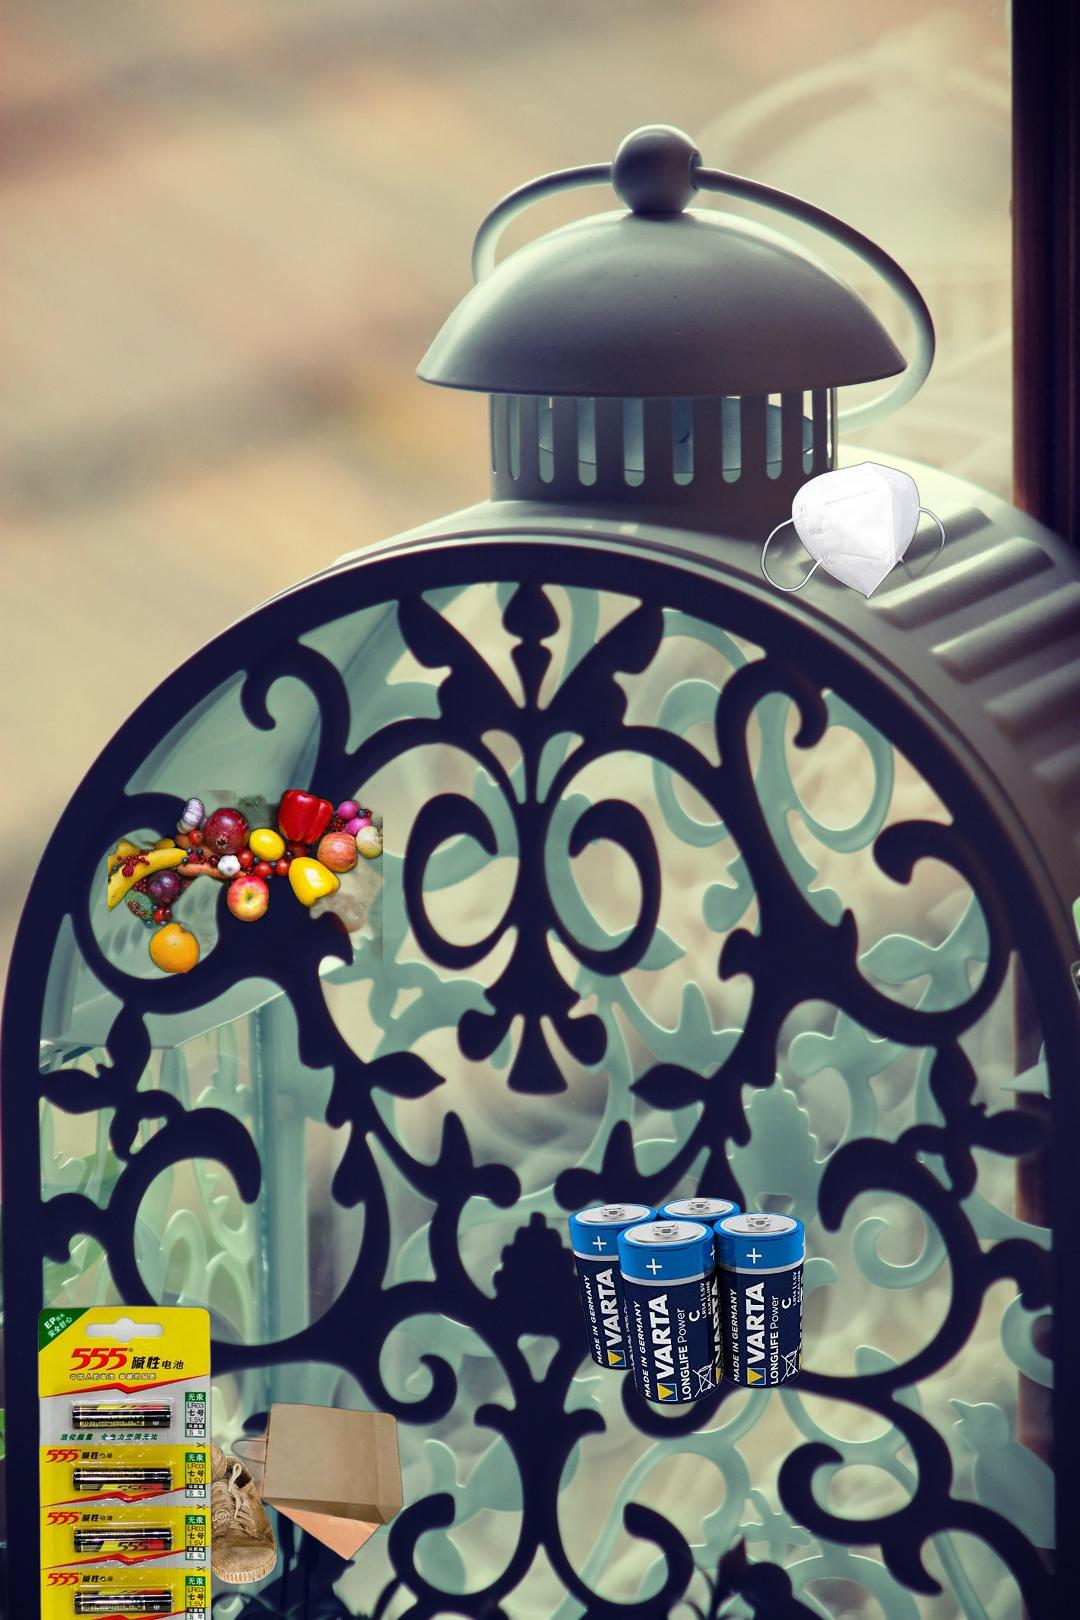battery: (35, 1302, 215, 1620), (567, 1195, 806, 1405), (1063, 699, 1080, 1068)
biological: (108, 790, 383, 973)
paper-bag: (230, 1377, 407, 1562)
shoes: (111, 1422, 280, 1587), (466, 1618, 620, 1620)
trash: (758, 459, 947, 604)
